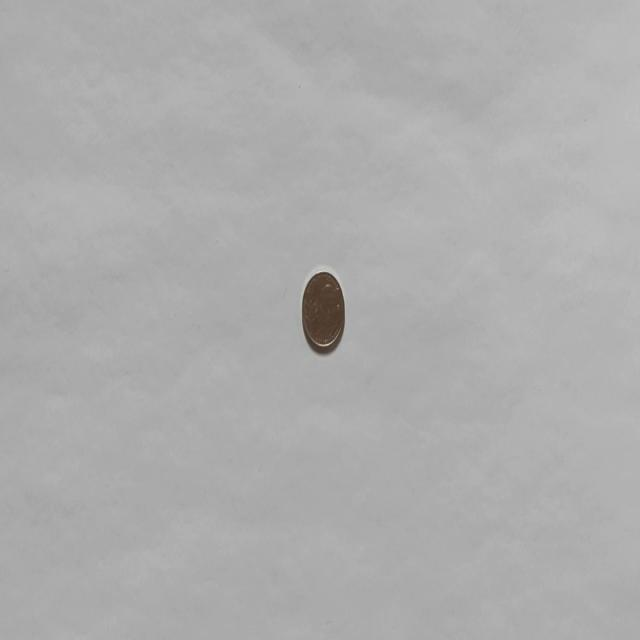seribu rupiah koin: (300, 266, 346, 354)
